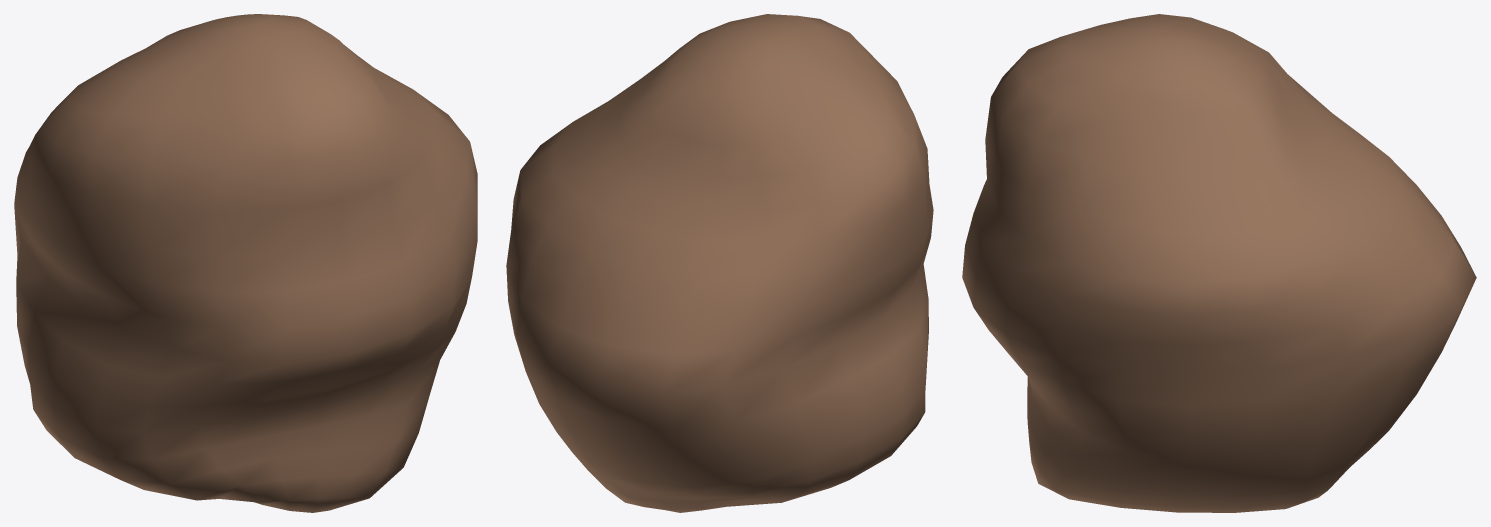
Rendered from Crumb Big.fbx.
The picture shows the model from 3 angles, left to right: view 1: azimuth 30°, elevation 25°; view 2: azimuth 150°, elevation 25°; view 3: azimuth 270°, elevation 25°; orthographic projection. The views are drawn at different scales.
Visible parts, largest first — view 1: pSphere1; view 2: pSphere1; view 3: pSphere1.
Boxes of the visible parts, bbox=[...] form: pSphere1: bbox=[14, 14, 477, 512]; pSphere1: bbox=[506, 14, 933, 512]; pSphere1: bbox=[962, 14, 1476, 512].
Bounding box in the file's own units: 1.56 × 1.73 × 1.8.
